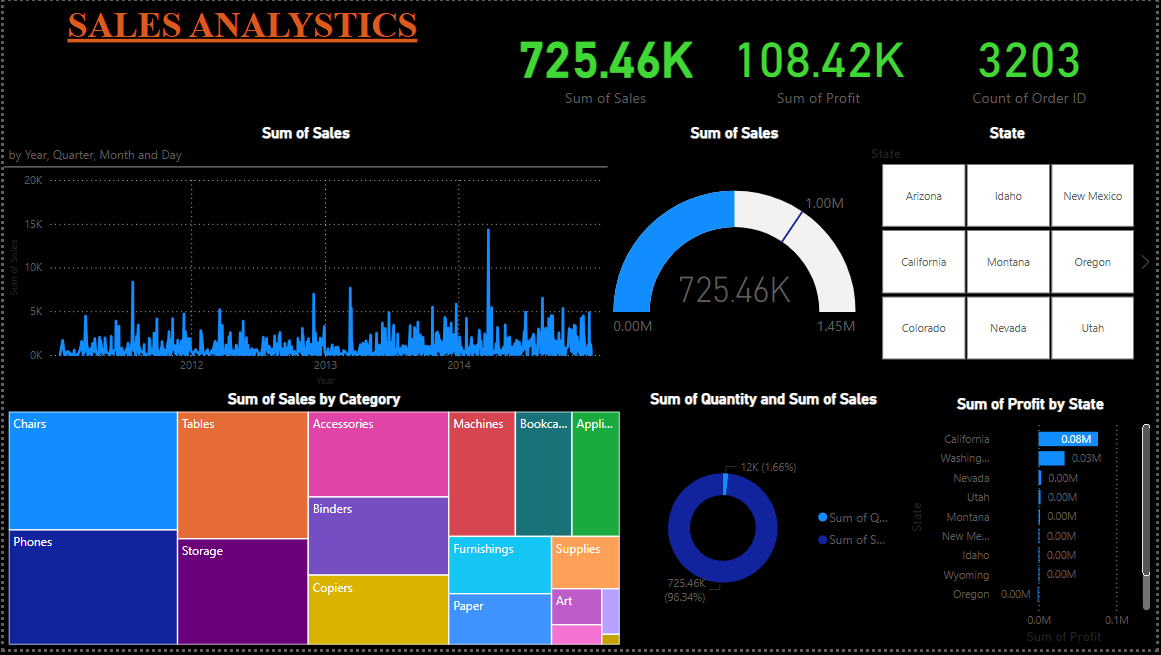

What the dashboard file says about the page in this screenshot:
{"tool":"powerbi","page":{"name":"Sales Dashboard","canvas":[1280,720],"ordinal":0},"visuals":[{"type":"card","fields":{"Values":["Sum(Walmart (2).Sales)"]},"box":[528.4,0,279.9,137.5],"z":0},{"type":"card","fields":{"Values":["Sum(Walmart (2).Profit)"]},"box":[765.3,0,279.9,137.5],"z":1000},{"type":"card","fields":{"Values":["CountNonNull(Walmart (2).Order ID)"]},"box":[1000.5,0,278.3,137.5],"z":2000},{"type":"lineChart","fields":{"Category":["Walmart (2).Order Date.Variation.Date Hierarchy.Year","Walmart (2).Order Date.Variation.Date Hierarchy.Quarter","Walmart (2).Order Date.Variation.Date Hierarchy.Month","Walmart (2).Order Date.Variation.Date Hierarchy.Day"],"Y":["Sum(Walmart (2).Sales)"]},"box":[0,137.5,670.9,294.9],"z":3000},{"type":"treemap","fields":{"Group":["Walmart (2).Category"],"Values":["Sum(Walmart (2).Sales)"]},"box":[0,432.3,689.1,288.2],"z":4000},{"type":"barChart","fields":{"Category":["Walmart (2).State"],"Y":["Sum(Walmart (2).Profit)"]},"box":[999.7,436.5,279.7,283.5],"z":5000},{"type":"gauge","fields":{"Y":["Sum(Walmart (2).Sales)"]},"box":[670.9,137.5,279.9,294.9],"z":6000},{"type":"textbox","title":"SALES ANALYSTICS","box":[0,3.3,528.4,134.2],"z":7000},{"type":"slicer","title":"State","fields":{"Values":["Walmart (2).State"]},"box":[950.8,137.5,329.6,268.3],"z":8000},{"type":"donutChart","fields":{"Y":["Sum(Walmart (2).Quantity)","Sum(Walmart (2).Sales)"]},"box":[689.1,432.3,311.4,288.2],"z":9000}]}

Visuals, with their boxes in screenshot pixels (x1, y1, x2, y2), scaled from the page's 1280x720 canvas onto the 1161x655 screenshot:
card - Sum(Walmart (2).Sales): Rect(479, 0, 733, 125)
card - Sum(Walmart (2).Profit): Rect(694, 0, 948, 125)
card - CountNonNull(Walmart (2).Order ID): Rect(907, 0, 1160, 125)
lineChart - Walmart (2).Order Date.Variation.Date Hierarchy.Year x Walmart (2).Order Date.Variation.Date Hierarchy.Quarter: Rect(0, 125, 609, 393)
treemap - Walmart (2).Category x Sum(Walmart (2).Sales): Rect(0, 393, 625, 654)
barChart - Walmart (2).State x Sum(Walmart (2).Profit): Rect(907, 397, 1160, 654)
gauge - Sum(Walmart (2).Sales): Rect(609, 125, 862, 393)
"SALES ANALYSTICS" textbox: Rect(0, 3, 479, 125)
"State" slicer: Rect(862, 125, 1160, 369)
donutChart - Sum(Walmart (2).Quantity) x Sum(Walmart (2).Sales): Rect(625, 393, 907, 654)
